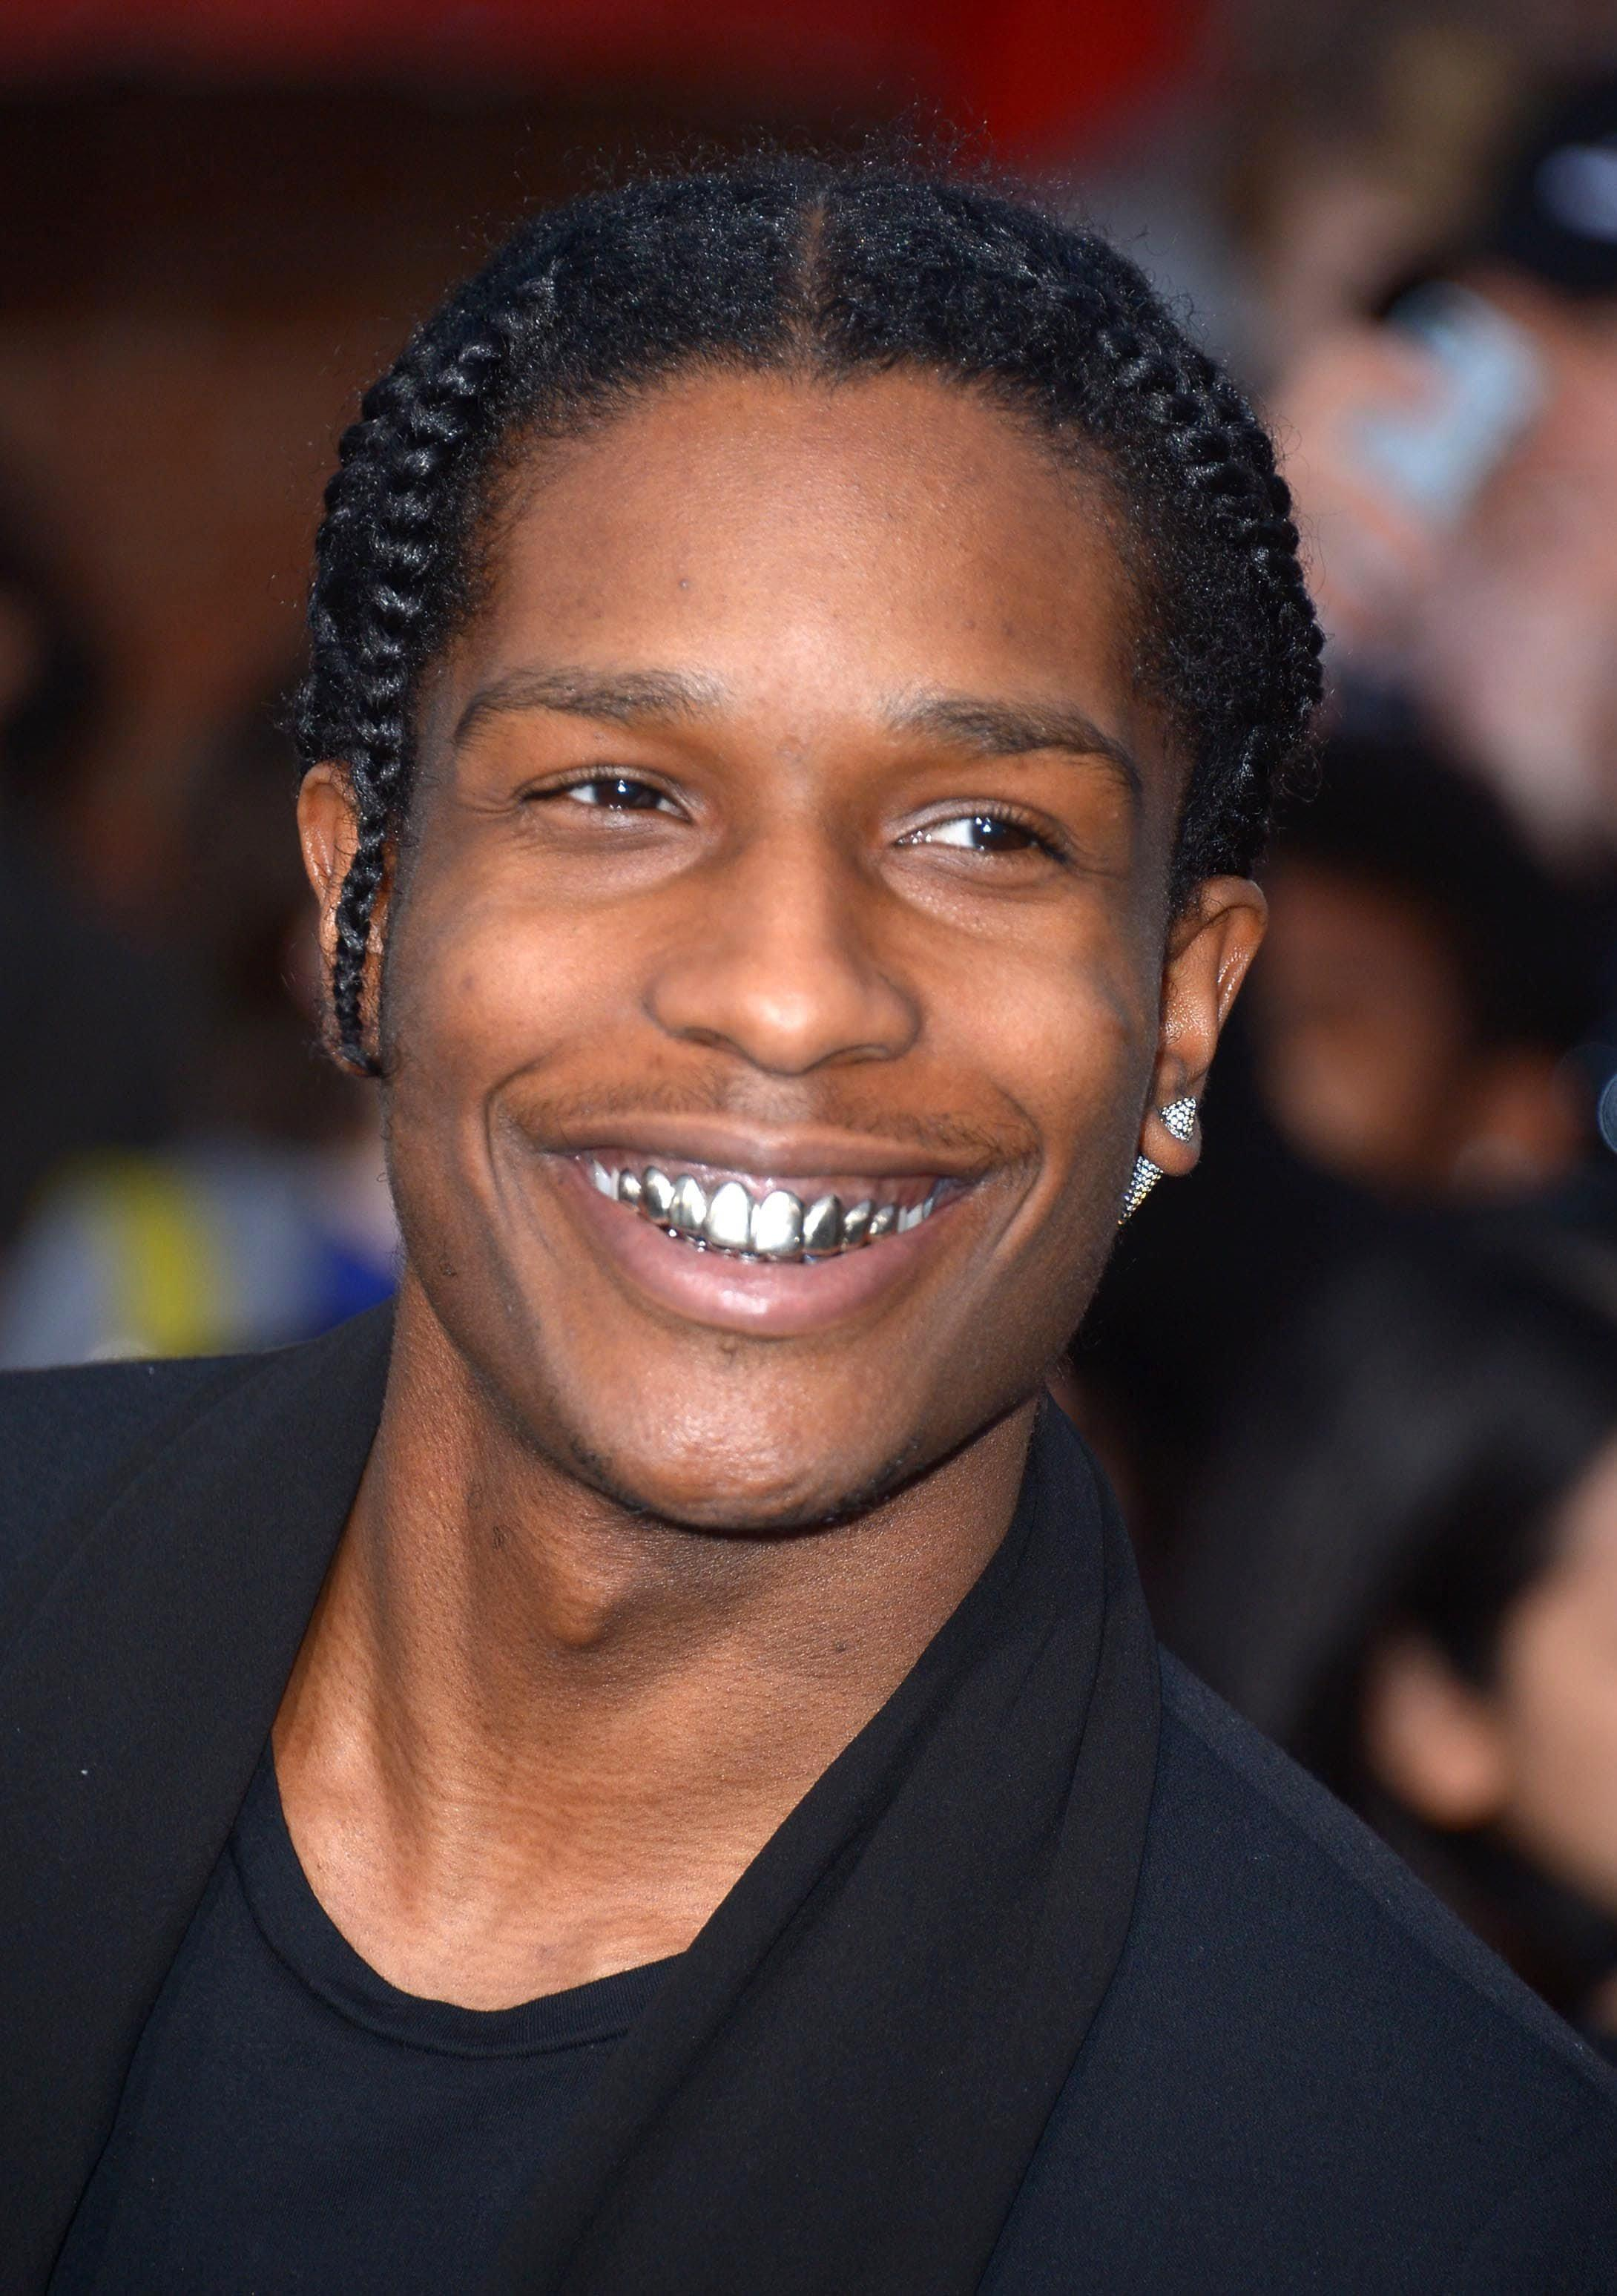Sober: (434, 423, 1127, 1459)
